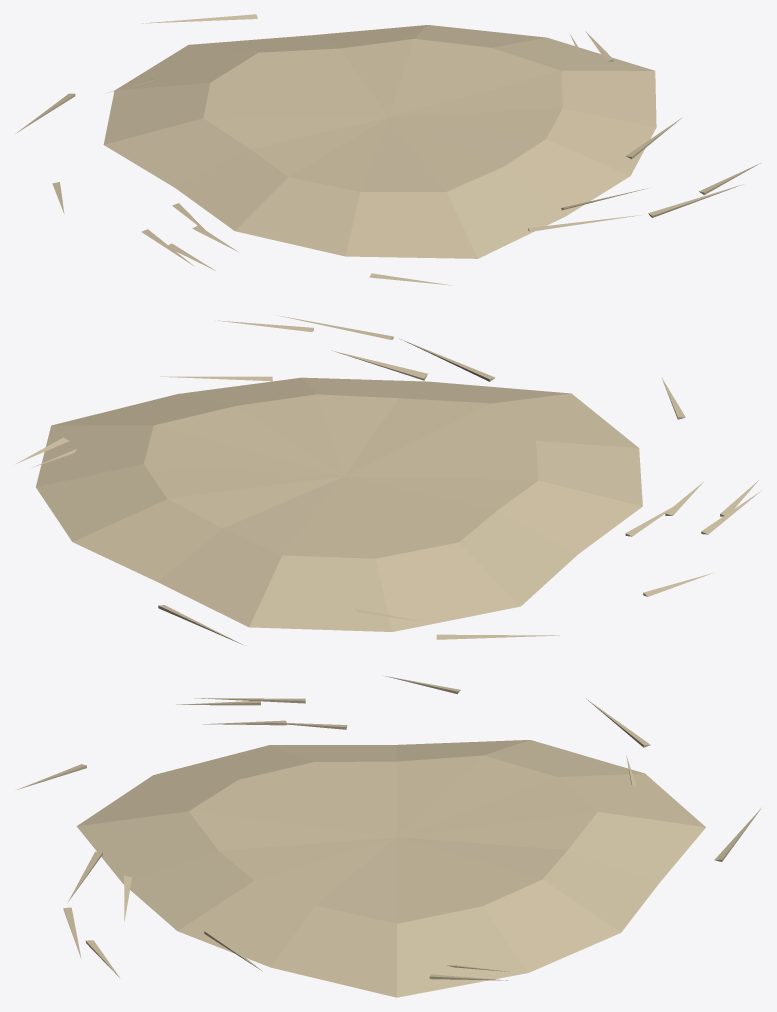
File: straw_nest.glb
The picture shows the model from 3 angles, top to bottom: view 1: azimuth 30°, elevation 25°; view 2: azimuth 150°, elevation 25°; view 3: azimuth 270°, elevation 25°; orthographic projection. The views are drawn at different scales.
Parts seen in each view (by area): view 1: straw_nest; view 2: straw_nest; view 3: straw_nest.
Part boxes in pixels (x1=…): straw_nest: x1=15, y1=14, x2=760, y2=285; straw_nest: x1=16, y1=315, x2=761, y2=644; straw_nest: x1=17, y1=676, x2=761, y2=997.
Bounding box in the file's own units: 3.36 × 0.134 × 3.38.
